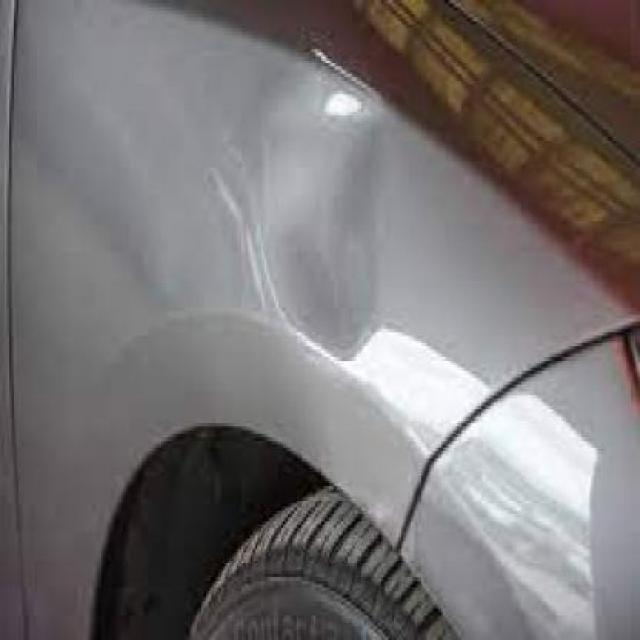dent: (260, 85, 391, 360)
